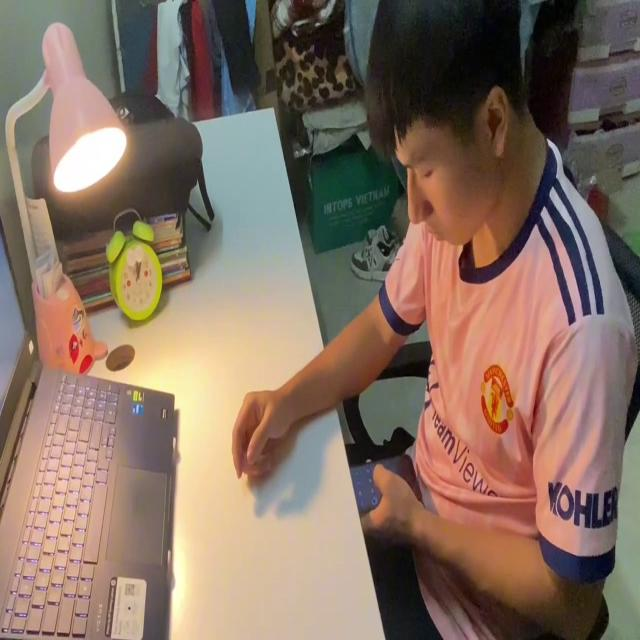laptop: (0, 214, 176, 640)
phone: (348, 448, 426, 524)
student: (229, 0, 640, 640)
